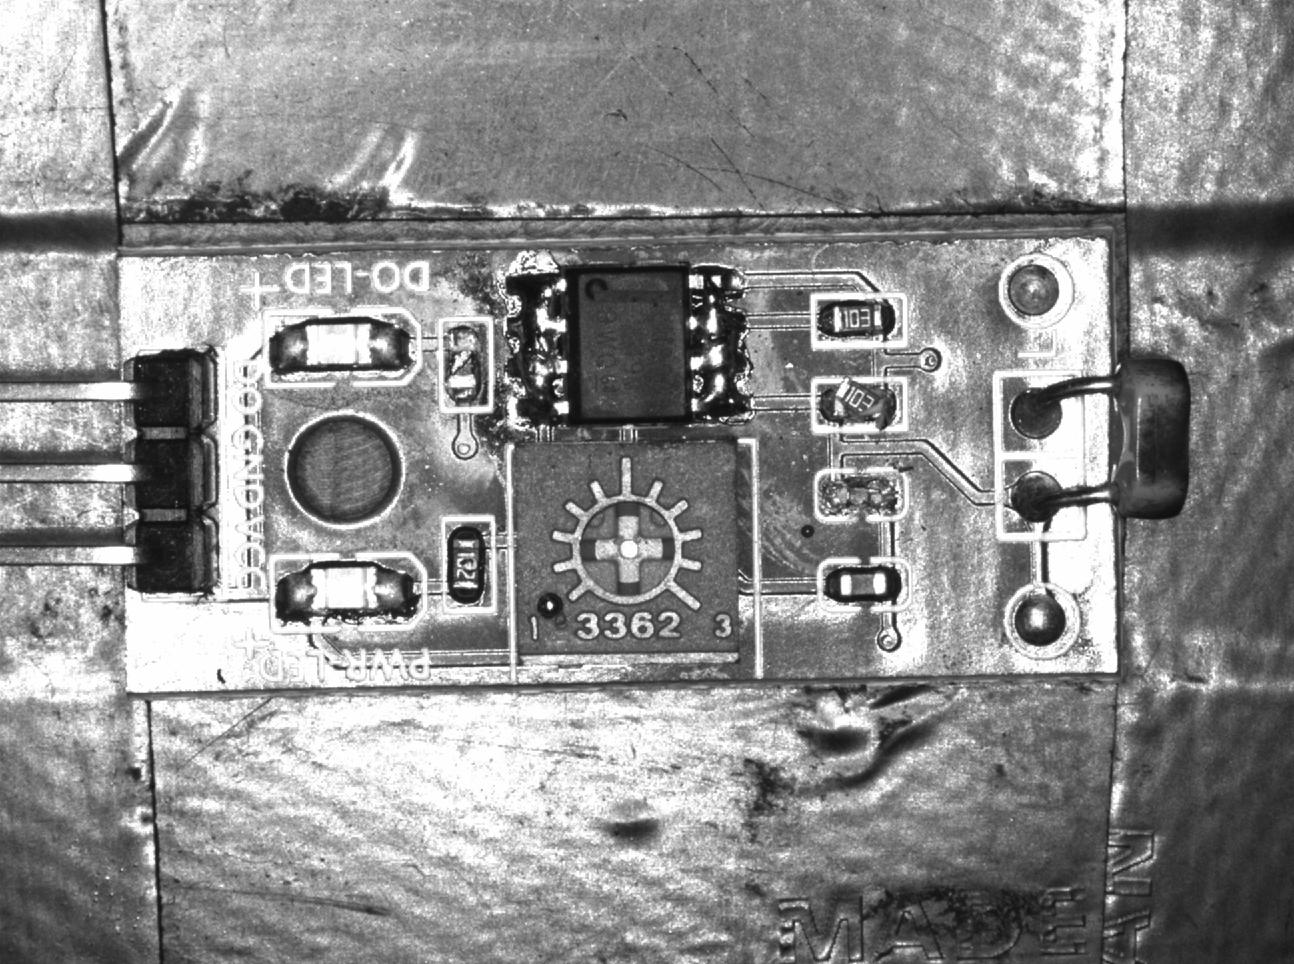bridge: (690, 258, 757, 424), (505, 264, 569, 428)
lifted: (812, 380, 907, 432)
miss: (817, 470, 911, 523), (441, 321, 490, 414)
ok: (441, 514, 498, 615), (815, 292, 909, 351), (819, 559, 907, 609)
